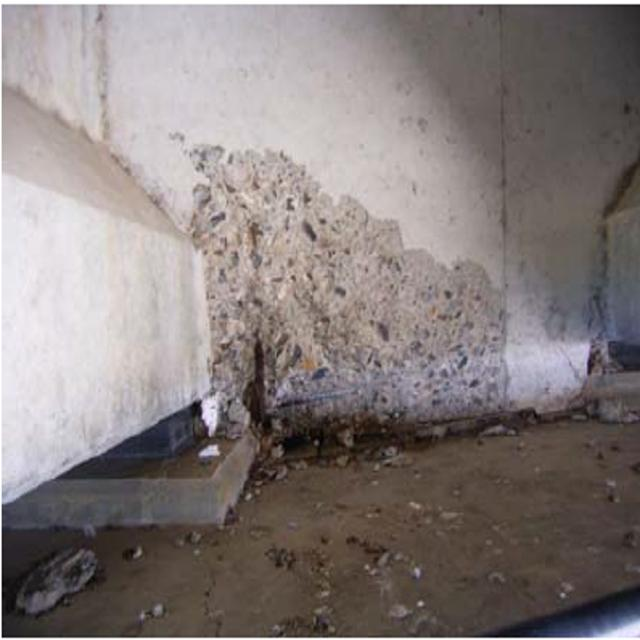spalling: (174, 134, 539, 466)
